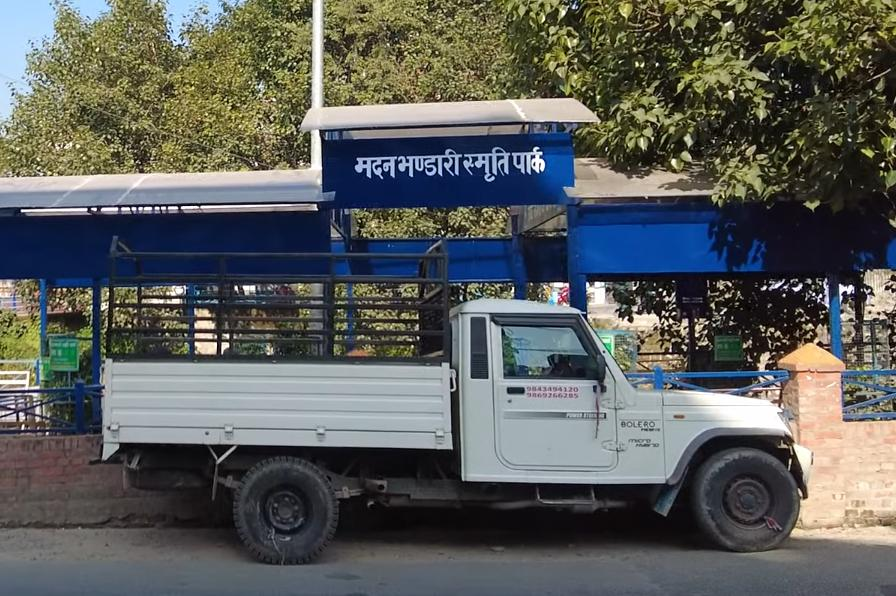transport_vehicle: (76, 217, 825, 573)
